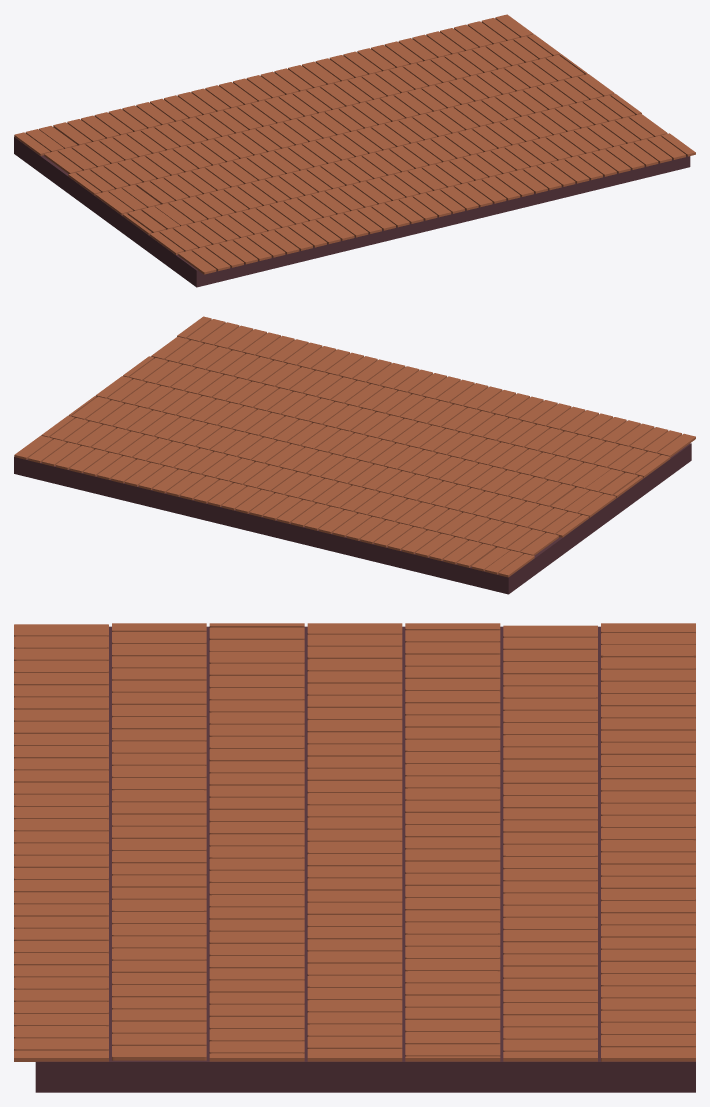
The model's file is chao-novo.fbx.
The picture shows the model from 3 angles, top to bottom: view 1: azimuth 30°, elevation 25°; view 2: azimuth 150°, elevation 25°; view 3: azimuth 270°, elevation 25°; orthographic projection. The views are drawn at different scales.
Visible parts, largest first — view 1: Cube.003; view 2: Cube.003; view 3: Cube.003.
Part boxes in pixels (x1=…): Cube.003: x1=14, y1=14, x2=695, y2=287; Cube.003: x1=14, y1=316, x2=695, y2=594; Cube.003: x1=14, y1=623, x2=695, y2=1092.
Bounding box in the file's own units: 1615 × 59.62 × 1069.
